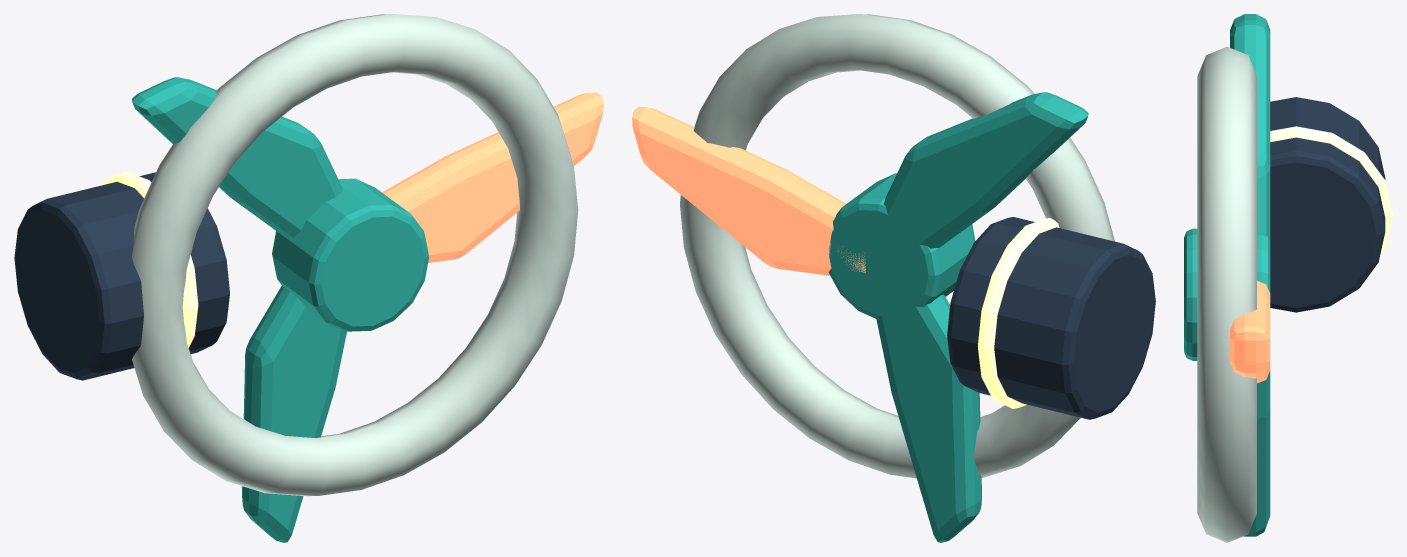
Rendered from gale_disc.glb.
3 views of the same model, side by side, from view 1: azimuth 30°, elevation 25°; view 2: azimuth 150°, elevation 25°; view 3: azimuth 270°, elevation 25° (orthographic). The views are drawn at different scales.
Parts seen in each view (by area): view 1: ModuleArmor; view 2: ModuleArmor; view 3: ModuleArmor.
Boxes of the visible parts, bbox=[...] form: ModuleArmor: bbox=[14, 14, 603, 542]; ModuleArmor: bbox=[632, 14, 1155, 542]; ModuleArmor: bbox=[1184, 14, 1392, 542].
Size of the model in its own units: 0.9978 by 0.9476 by 0.363.
